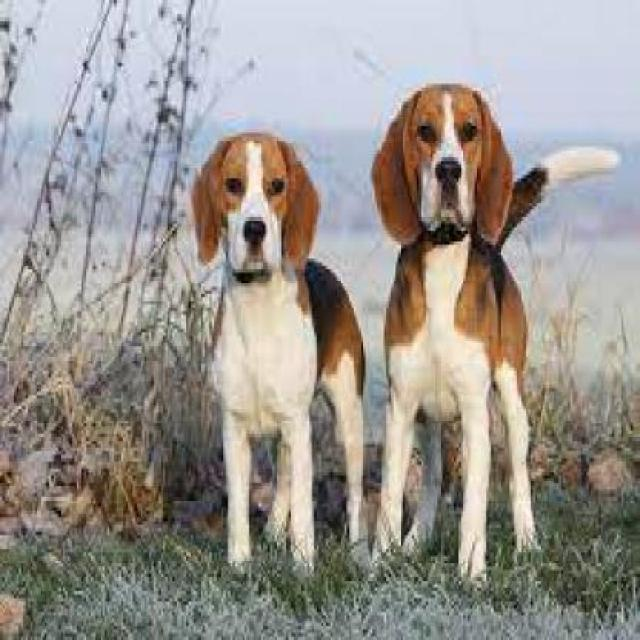Dog: (369, 74, 623, 592), (189, 131, 368, 580)
